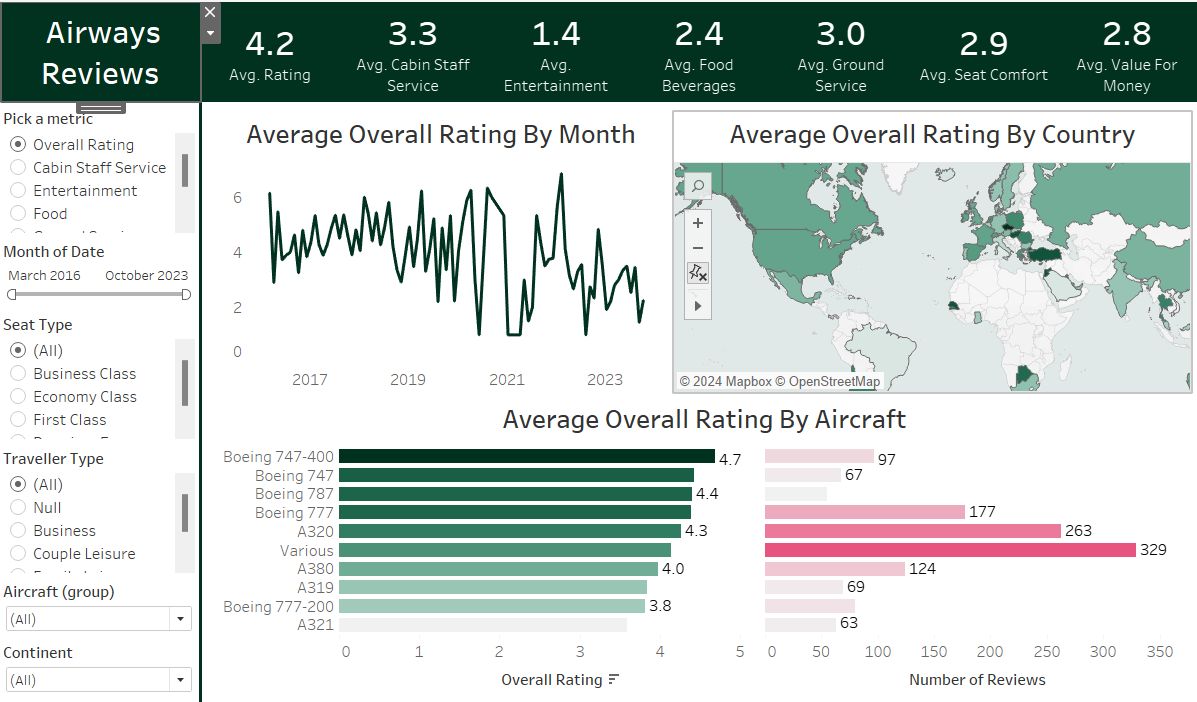

The dashboard page shown, as its layout file describes it:
{"tool":"tableau","page":{"name":"Dashboard 1","canvas":[1200,700],"ordinal":0},"visuals":[{"type":"worksheet","title":"summary","mark":"Automatic","box":[200,0,999,100]},{"type":"blank","box":[200,100,3,600]},{"type":"parameter","param":"[Parameters].[Parameter 1]","box":[0,102,200,133.3]},{"type":"worksheet","title":"Month","mark":"Automatic","rows":["Calculation_467529988195790848"],"cols":["date"],"box":[220,110,444,280]},{"type":"worksheet","title":"Map","mark":"Automatic","box":[675,110,517,280]},{"type":"filter","title":"Map","param":"[federated.1pcnwoo1g4pvph10ksfk00hadk1e].[tmn:date:qk]","box":[0,235.3,200,73]},{"type":"filter","title":"Map","param":"[federated.1pcnwoo1g4pvph10ksfk00hadk1e].[none:seat_type:nk]","box":[0,308.3,200,133.3]},{"type":"worksheet","title":"Aircraft","mark":"Automatic","cols":["Calculation_467529988195790848","ba_reviews.csv_693B5AD7C0CC43C9AB5E245D8FB67E5F"],"box":[220,395,971,300]},{"type":"filter","title":"Map","param":"[federated.1pcnwoo1g4pvph10ksfk00hadk1e].[none:traveller_type:nk]","box":[0,441.7,200,133.3]},{"type":"filter","title":"Map","param":"[federated.1pcnwoo1g4pvph10ksfk00hadk1e].[Aircraft (group)]","box":[0,575,200,61]},{"type":"filter","title":"Map","param":"[federated.1pcnwoo1g4pvph10ksfk00hadk1e].[none:Continent:nk]","box":[0,636,200,61]}]}

Visuals, with their boxes in screenshot pixels (x1, y1, x2, y2), scaled from the page's 1200x700 canvas onto the 1197x702 screenshot:
"summary" worksheet: {"left": 200, "top": 0, "right": 1196, "bottom": 100}
blank: {"left": 200, "top": 100, "right": 202, "bottom": 701}
parameter: {"left": 0, "top": 102, "right": 200, "bottom": 236}
"Month" worksheet: {"left": 219, "top": 110, "right": 662, "bottom": 391}
"Map" worksheet: {"left": 673, "top": 110, "right": 1189, "bottom": 391}
"Map" filter: {"left": 0, "top": 236, "right": 200, "bottom": 309}
"Map" filter: {"left": 0, "top": 309, "right": 200, "bottom": 443}
"Aircraft" worksheet: {"left": 219, "top": 396, "right": 1188, "bottom": 697}
"Map" filter: {"left": 0, "top": 443, "right": 200, "bottom": 577}
"Map" filter: {"left": 0, "top": 577, "right": 200, "bottom": 638}
"Map" filter: {"left": 0, "top": 638, "right": 200, "bottom": 699}
